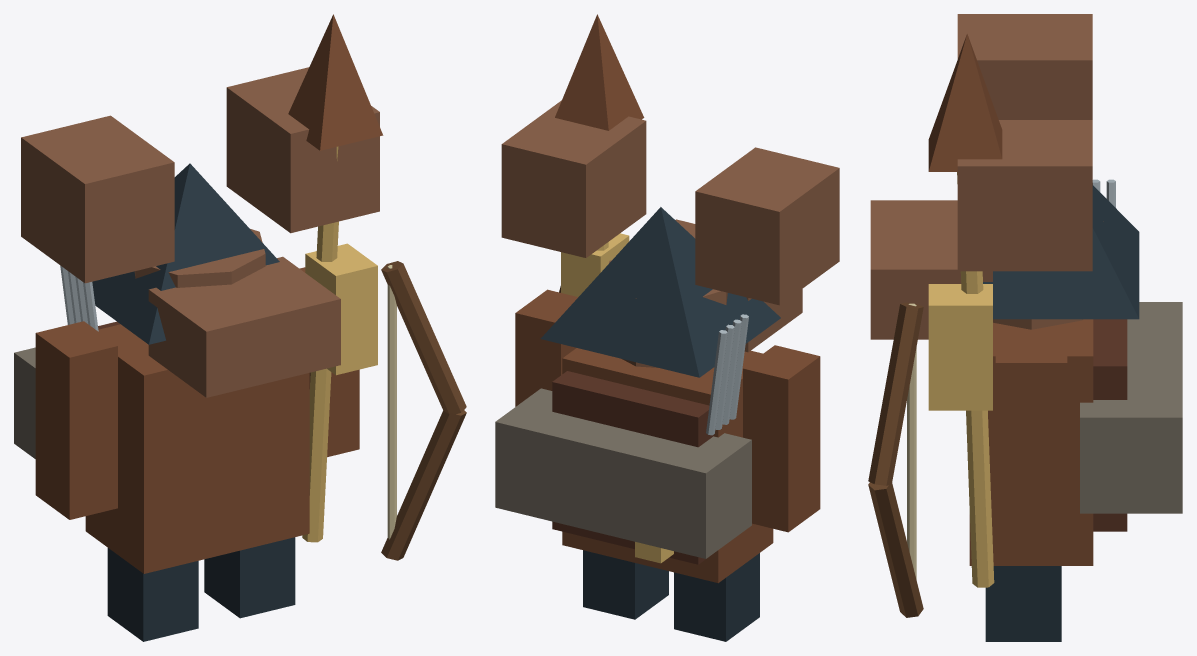
Rendered from scout.obj.
3 views of the same model, side by side, from view 1: azimuth 30°, elevation 25°; view 2: azimuth 150°, elevation 25°; view 3: azimuth 270°, elevation 25° (orthographic). The views are drawn at different scales.
Parts seen in each view (by area): view 1: ranged; view 2: ranged; view 3: ranged.
Part boxes in pixels (x1=…): ranged: x1=14, y1=14, x2=466, y2=641; ranged: x1=495, y1=14, x2=839, y2=641; ranged: x1=868, y1=14, x2=1182, y2=641.
Size of the model in its own units: 1.3 by 2.14 by 0.9779.
